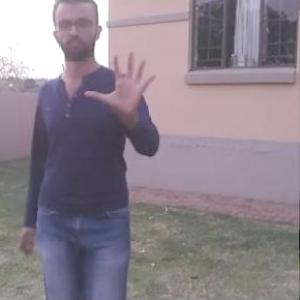follow_hand: (83, 46, 159, 118)
